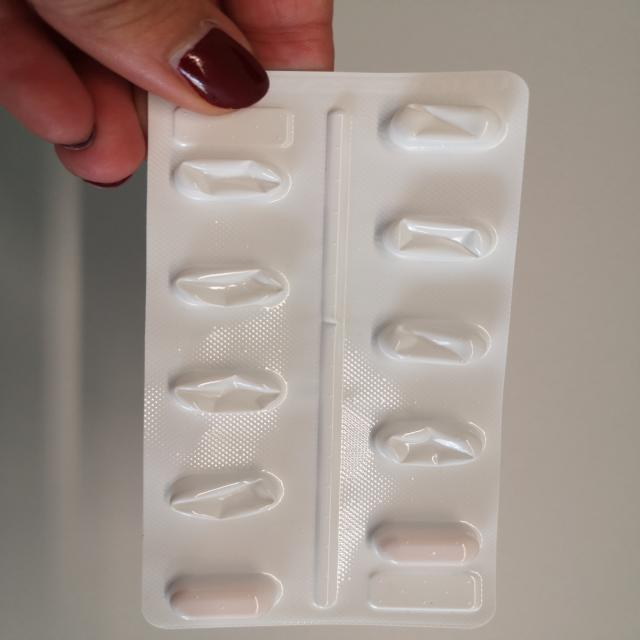Empty: (164, 466, 290, 526), (364, 412, 487, 472), (162, 364, 290, 420), (373, 209, 503, 264), (379, 98, 509, 153), (368, 312, 491, 370), (166, 154, 296, 208), (164, 260, 294, 313)
Pill: (156, 570, 286, 624), (366, 518, 485, 568)
